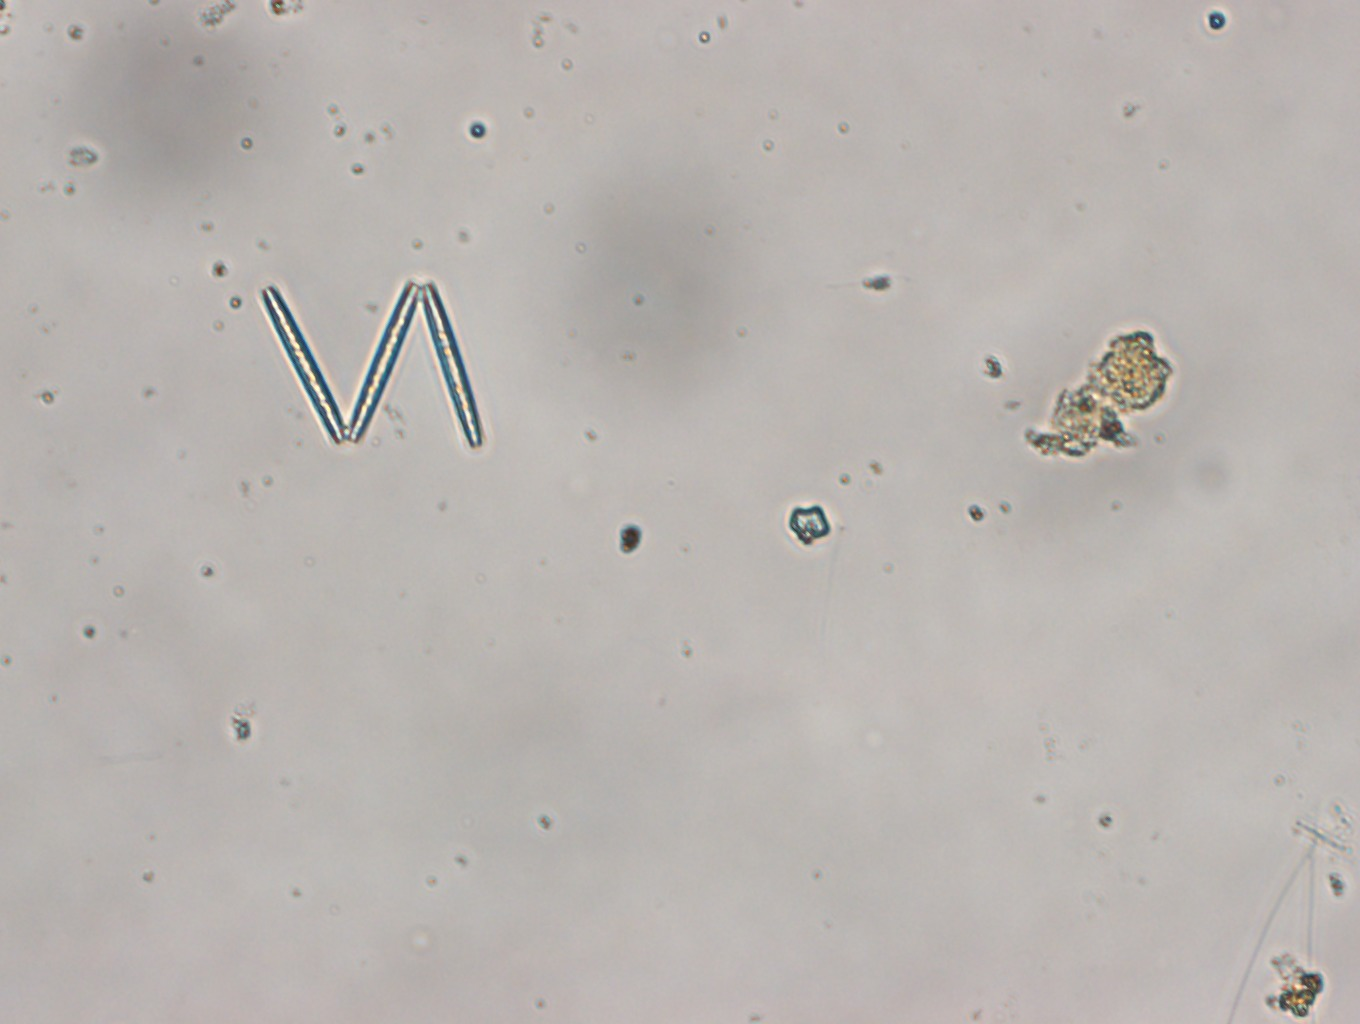thalassionema nitzschioides: (258, 280, 487, 452)
